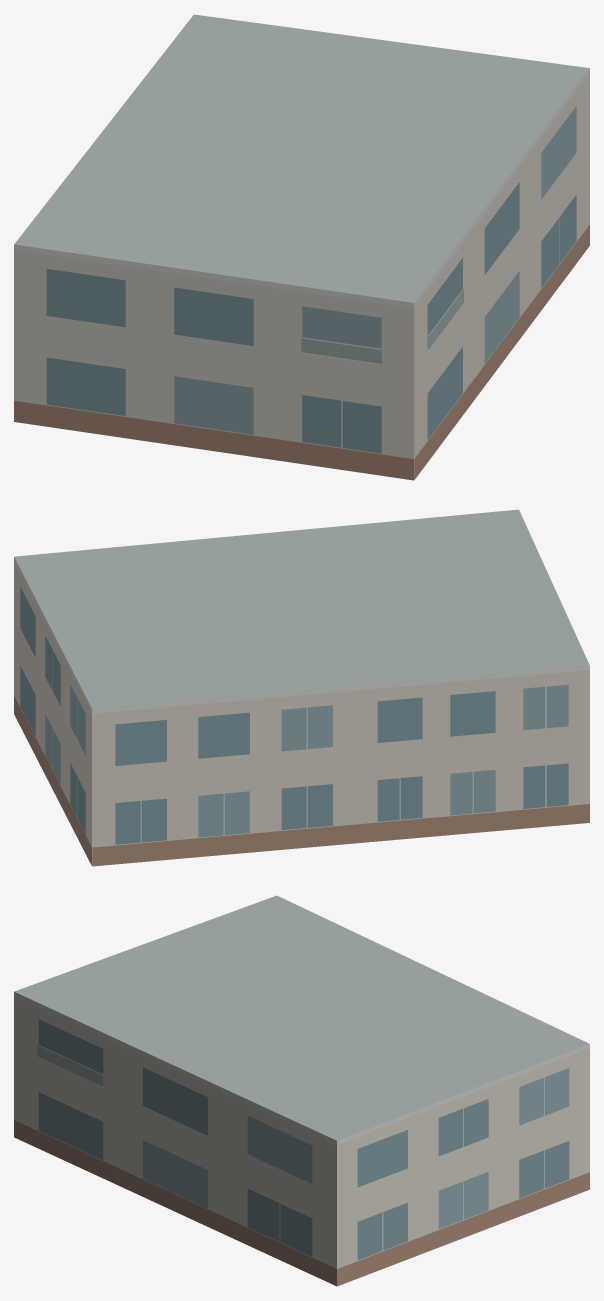
Rendered from survey-upis-32864352.glb.
3 renders of one model, top to bottom at view 1: azimuth 30°, elevation 25°; view 2: azimuth 150°, elevation 25°; view 3: azimuth 270°, elevation 25°, orthographic. The views are drawn at different scales.
Visible parts, largest first — view 1: survey-upis-32864352.tmp; view 2: survey-upis-32864352.tmp; view 3: survey-upis-32864352.tmp.
Boxes of the visible parts, left/top/right/bottom form: survey-upis-32864352.tmp: left=14, top=14, right=589, bottom=480; survey-upis-32864352.tmp: left=14, top=509, right=589, bottom=866; survey-upis-32864352.tmp: left=14, top=895, right=589, bottom=1286.
Size of the model in its own units: 28.71 by 7.95 by 28.48.
